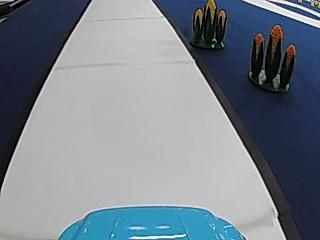corn: (244, 23, 300, 94), (186, 1, 231, 50)
